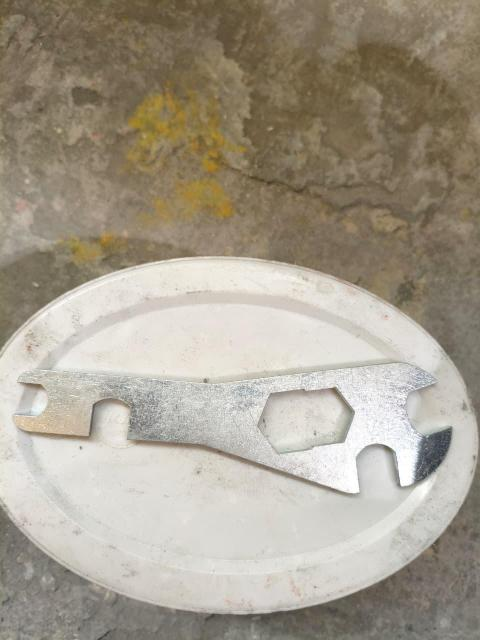Metal: (23, 357, 455, 495)
